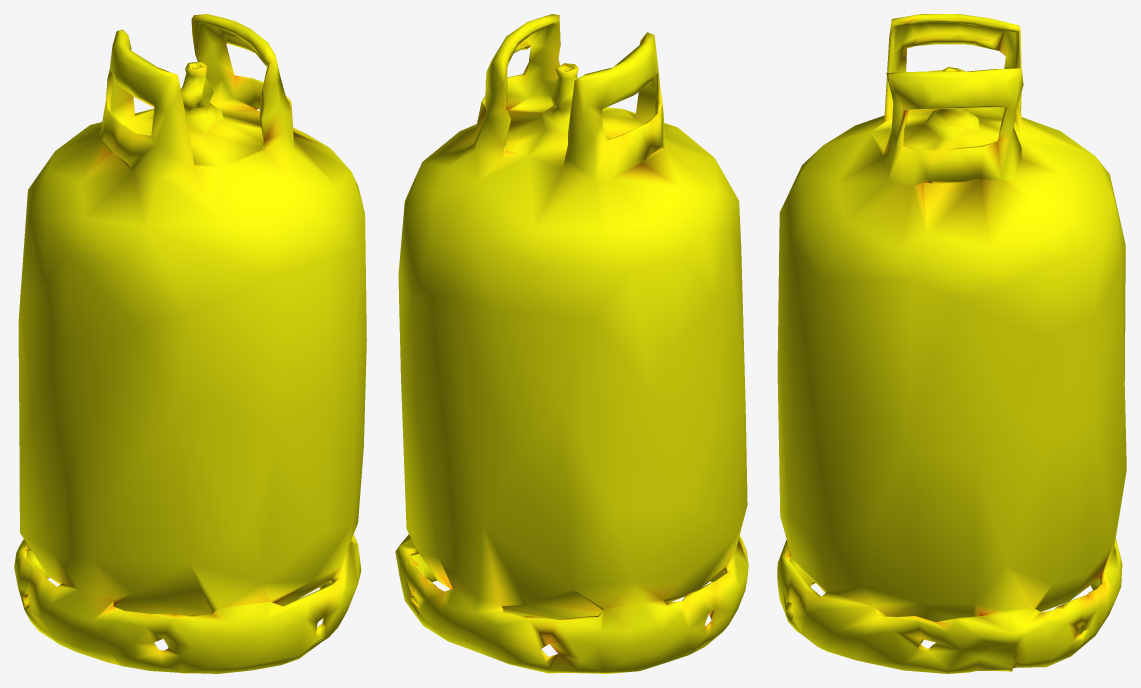
Rendered from junk4.glb.
3 renders of one model, left to right at view 1: azimuth 30°, elevation 25°; view 2: azimuth 150°, elevation 25°; view 3: azimuth 270°, elevation 25°, orthographic.
Visible parts, largest first — view 1: tl1rbitfa_LOD0_TIER3_000; view 2: tl1rbitfa_LOD0_TIER3_000; view 3: tl1rbitfa_LOD0_TIER3_000.
Part boxes in pixels (x1,y1,x2,y2): tl1rbitfa_LOD0_TIER3_000: (14,14,366,673); tl1rbitfa_LOD0_TIER3_000: (395,14,748,673); tl1rbitfa_LOD0_TIER3_000: (777,14,1126,673).
Size of the model in its own units: 0.4925 by 0.8737 by 0.4823.
Materials: 1 (1 with a texture image).
